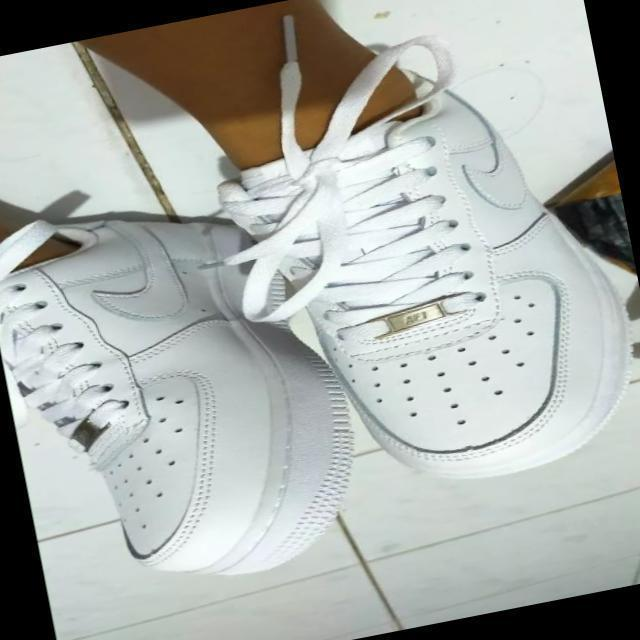nike fake air force: (197, 29, 640, 523), (0, 174, 381, 612)
